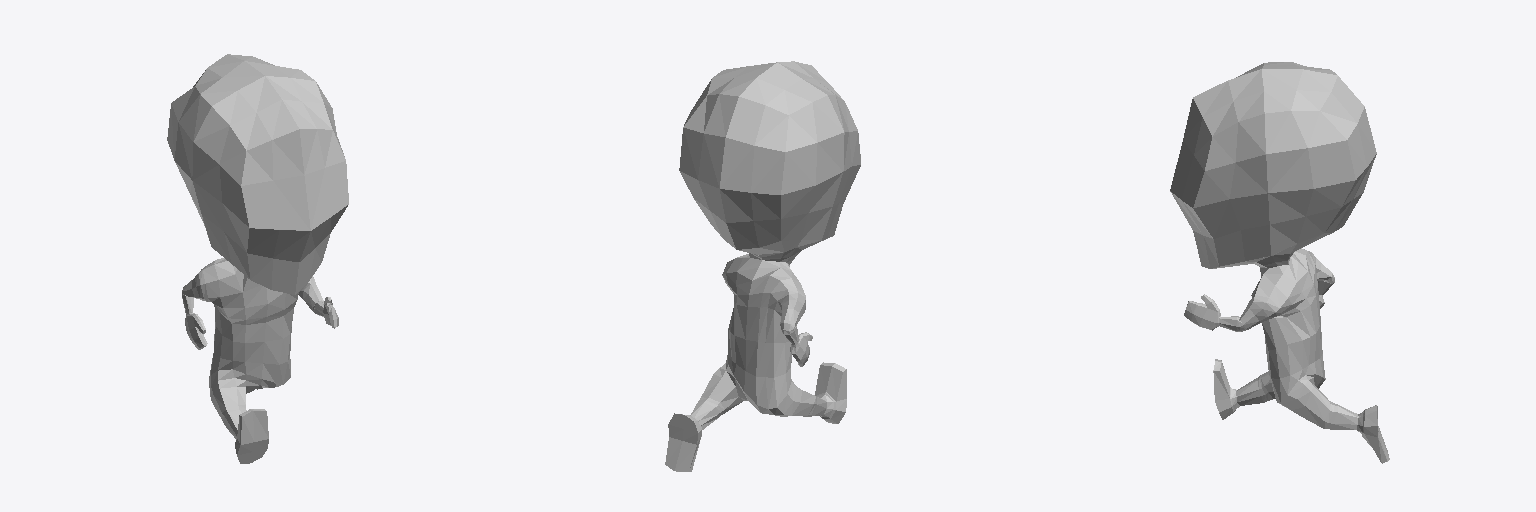
The model's file is char_000007.obj.
3 views of the same model, side by side, from view 1: azimuth 30°, elevation 25°; view 2: azimuth 150°, elevation 25°; view 3: azimuth 270°, elevation 25° (orthographic).
Visible parts, largest first — view 1: lp_guy_mesh_Cube; view 2: lp_guy_mesh_Cube; view 3: lp_guy_mesh_Cube.
Boxes of the visible parts, box(x1,y1,x2,y2) form: lp_guy_mesh_Cube: box(167, 54, 348, 463); lp_guy_mesh_Cube: box(665, 61, 860, 471); lp_guy_mesh_Cube: box(1170, 62, 1389, 463).
Size of the model in its own units: 0.7344 by 1.88 by 1.